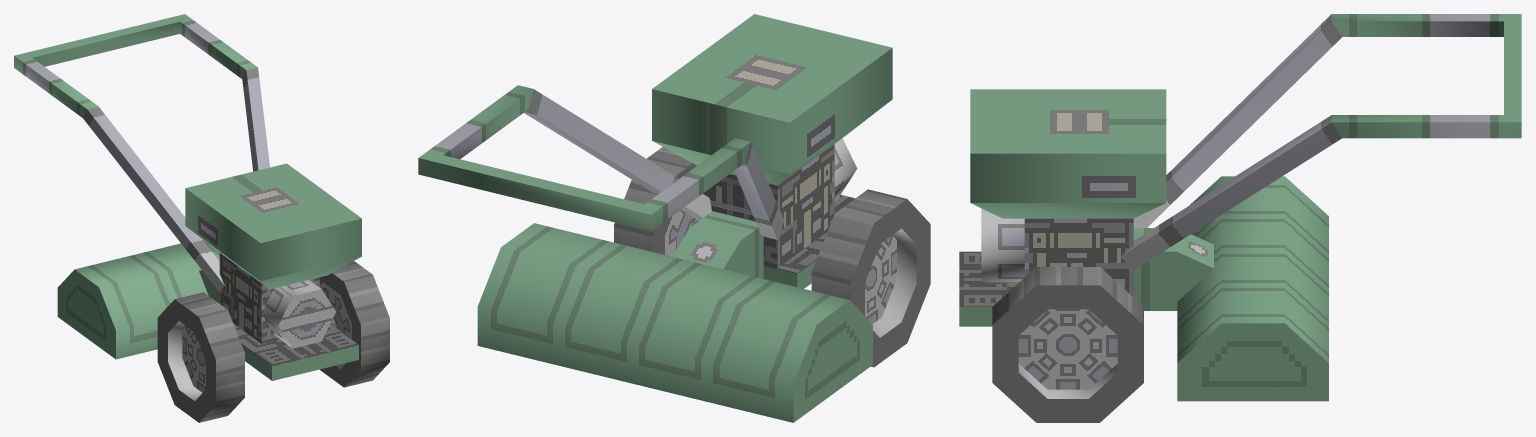
The model's file is 0097_Tiller.glb.
The picture shows the model from 3 angles, left to right: view 1: azimuth 30°, elevation 25°; view 2: azimuth 150°, elevation 25°; view 3: azimuth 270°, elevation 25°; orthographic projection. The views are drawn at different scales.
Parts seen in each view (by area): view 1: part_0, part_1; view 2: part_0, part_1; view 3: part_0, part_1.
Boxes of the visible parts, <box> form: part_0: <box>14,14,361,380</box>; part_1: <box>157,261,389,422</box>; part_0: <box>418,14,892,422</box>; part_1: <box>614,147,930,367</box>; part_0: <box>959,14,1521,401</box>; part_1: <box>992,267,1143,422</box>.
Bounding box in the file's own units: 1.2 × 1.14 × 1.94.
2 materials, 2 textured.
